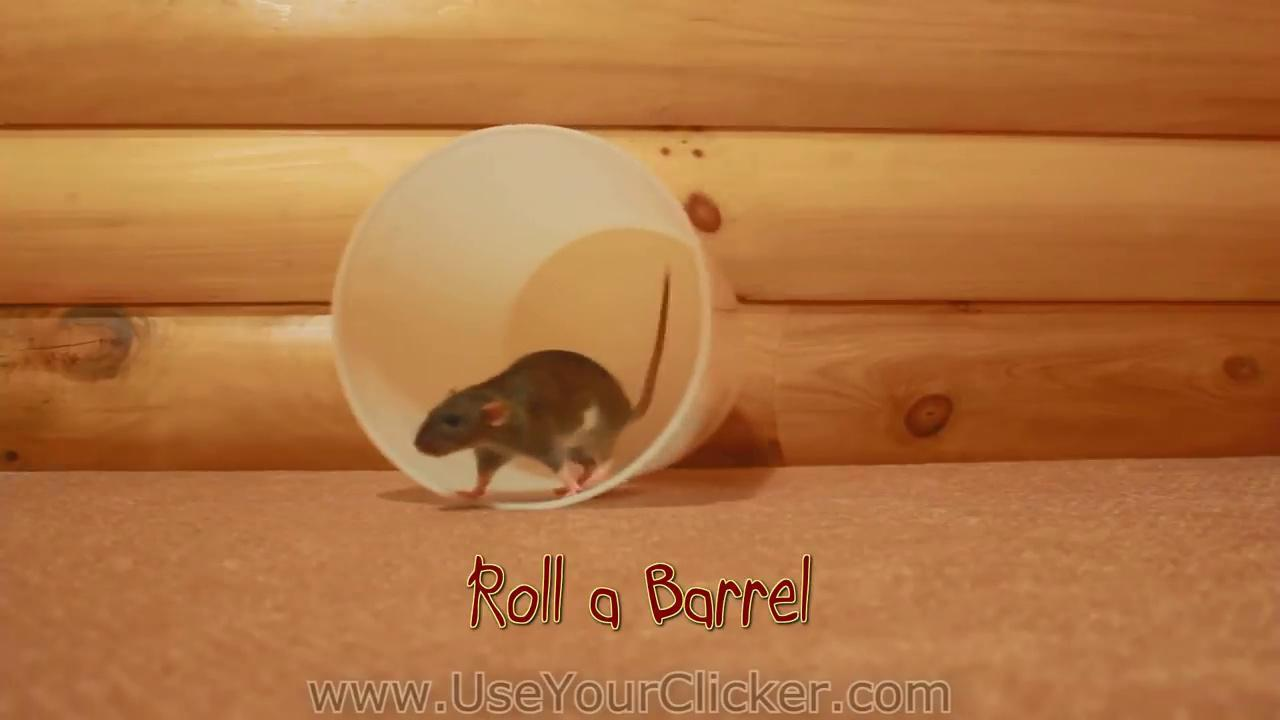rat: (412, 270, 669, 502)
